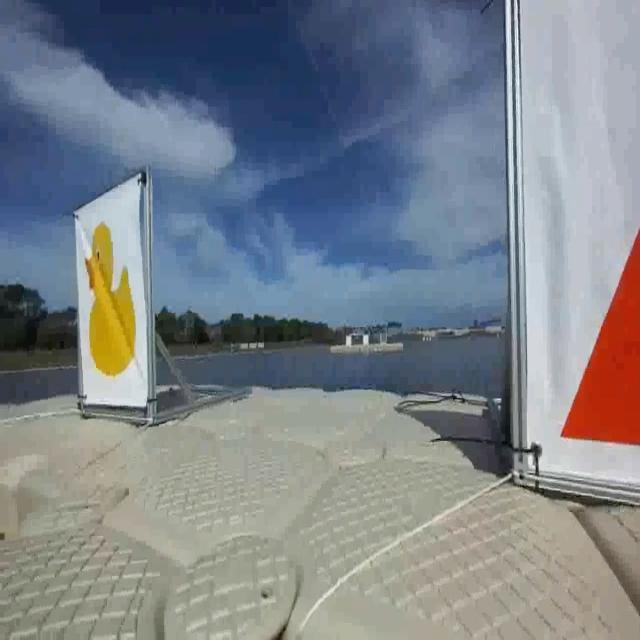red-dot: (512, 4, 640, 483)
yellow-duck: (71, 203, 150, 399)
